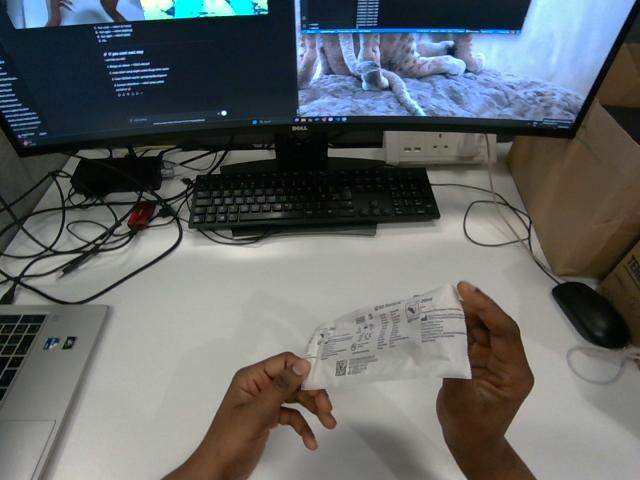syringe: (302, 285, 470, 389)
